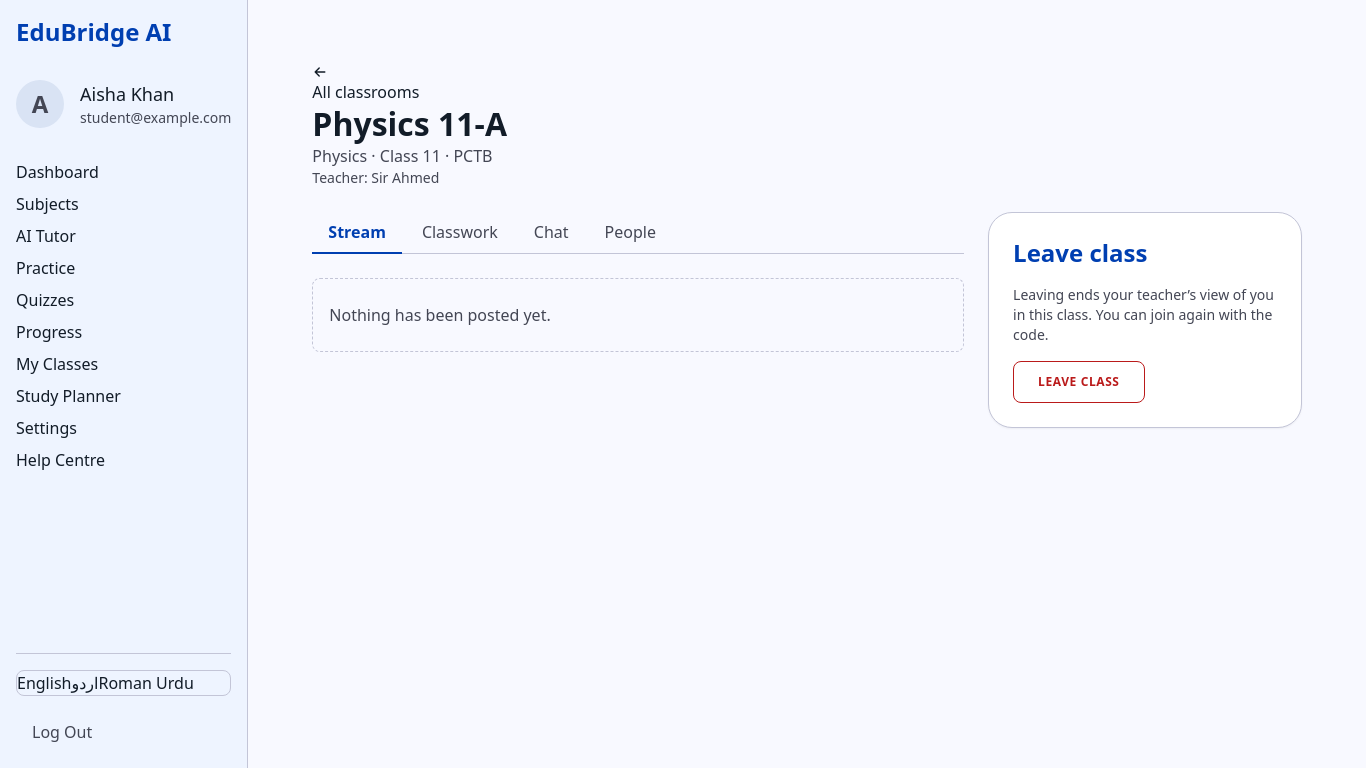
a member › sees the class and its people, and no owner control of any kind
The image size is (1366, 768).
Expected: the heading "Physics 11-A" is shown, [312, 102, 507, 145]
Click the tab "People": [630, 233] box [589, 212, 672, 254]
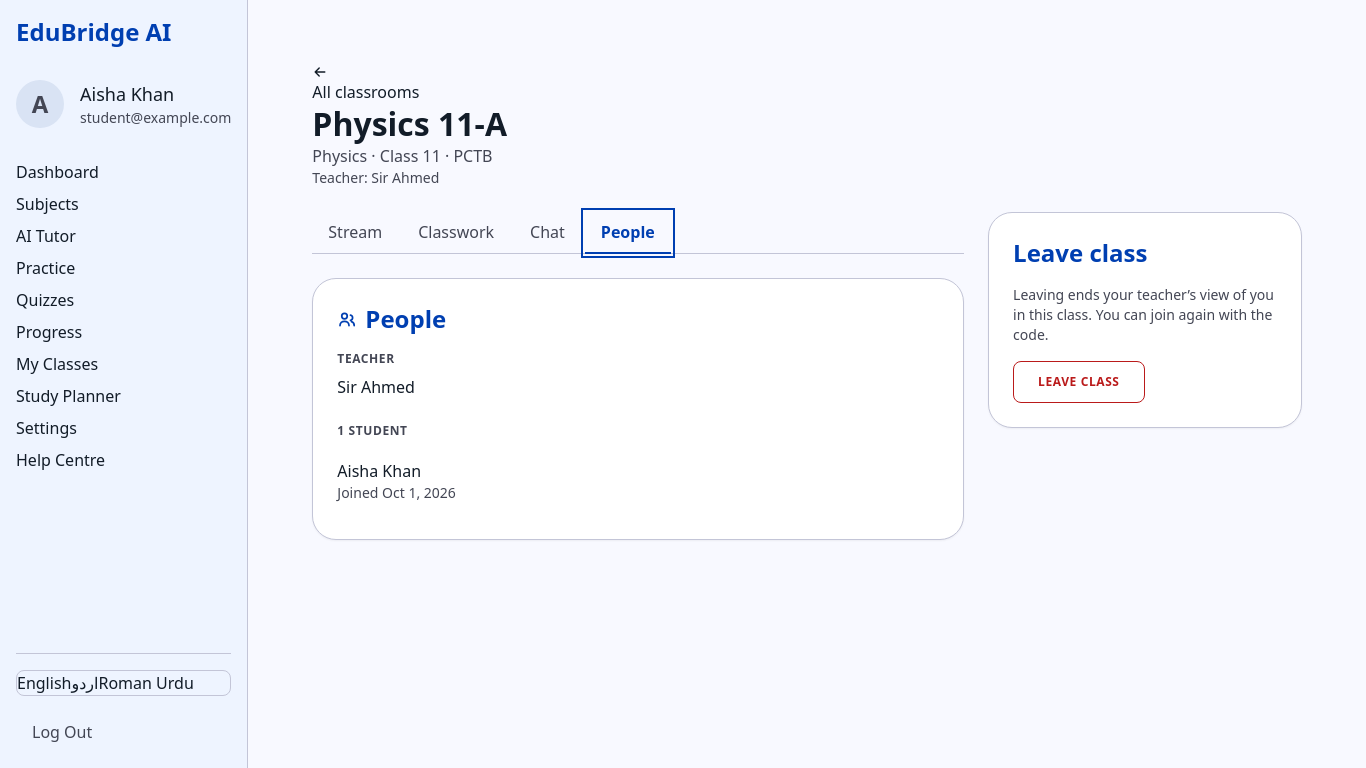
Result: the text "Aisha Khan" below "1 student" is shown at [337, 460, 421, 482]
